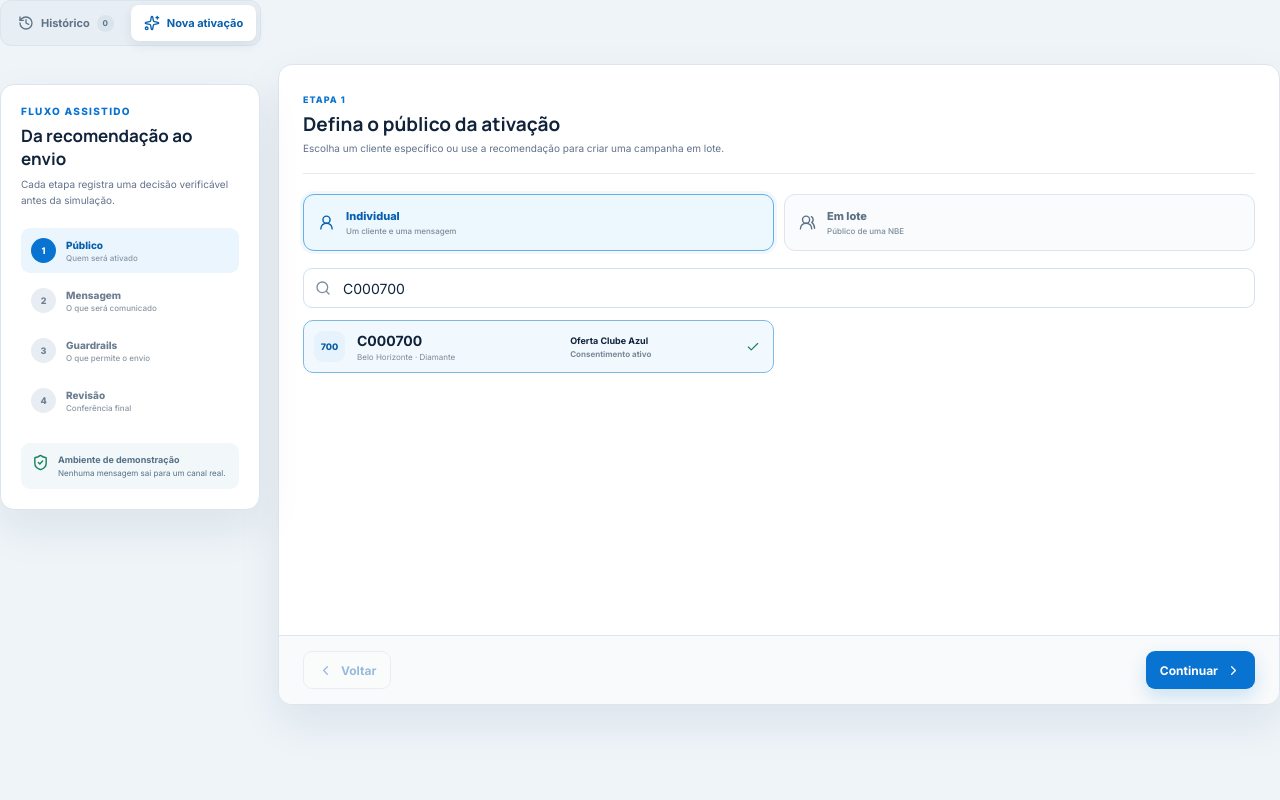
Test: central de ativação › impede seguir quando a mensagem viola os guardrails
Click the button "Continuar": x=1200, y=670 [1146,651,1255,689]
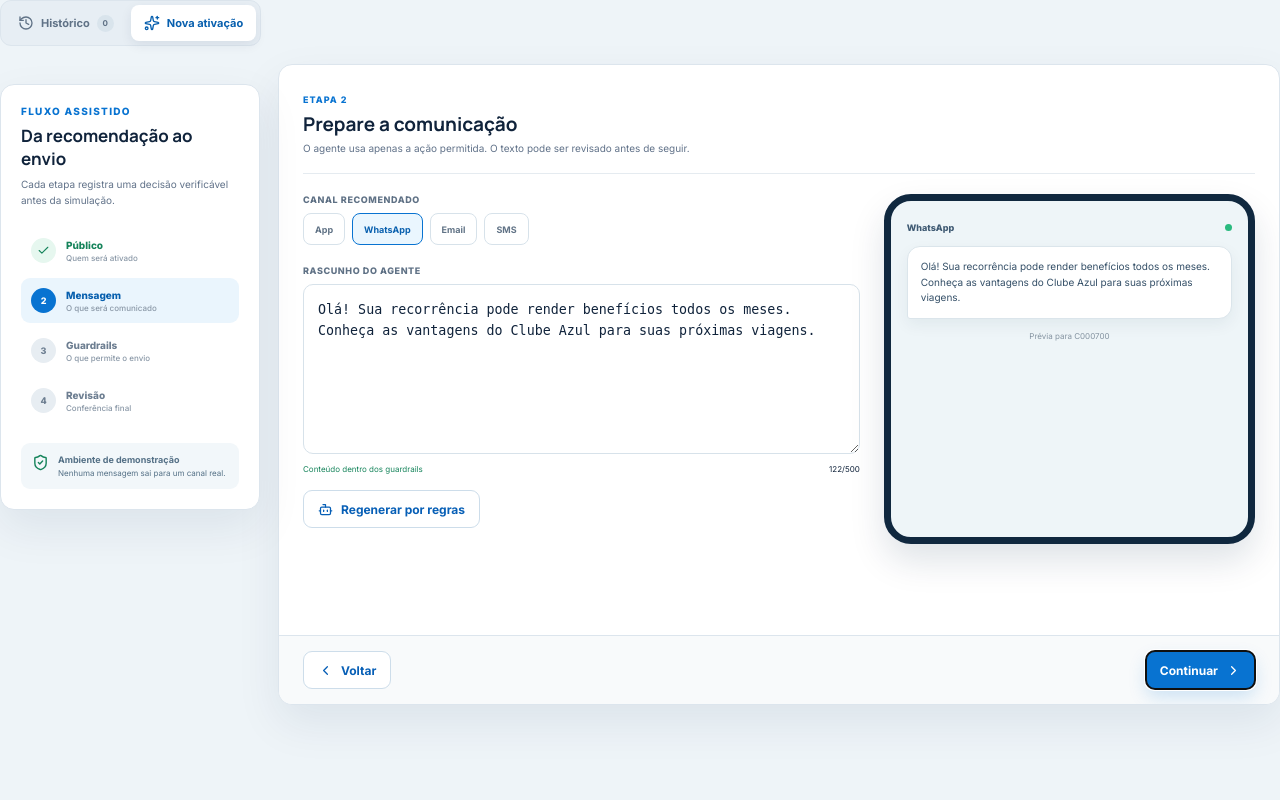
Replace the text in the text box labelled "Rascunho do agente" with "Você receberá desconto de vinte reais na próxima viagem.": x=581, y=369 [303,284,860,454]
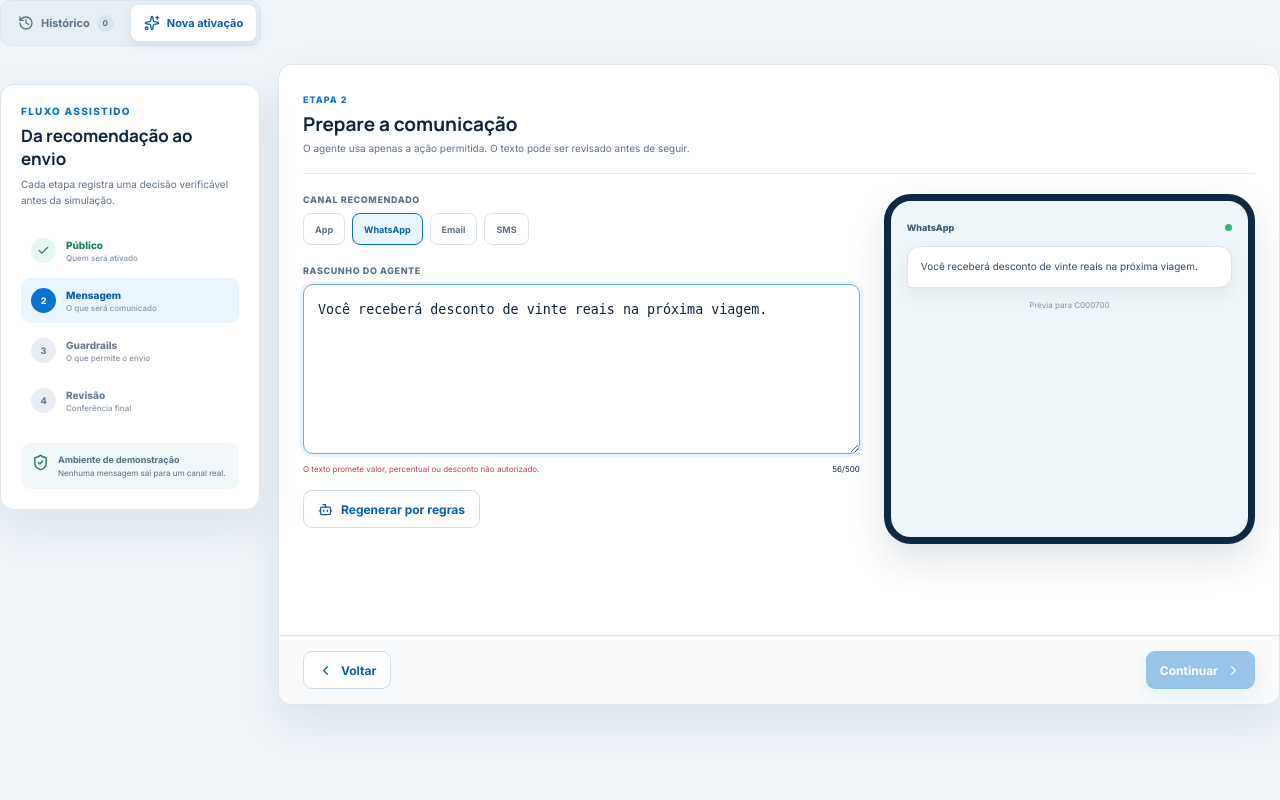
Expected: the button "Continuar" is disabled, [1146,651,1255,689]
Expected: the text "O texto promete valor, percentual ou desconto não autorizado." is shown, [303,464,539,474]
